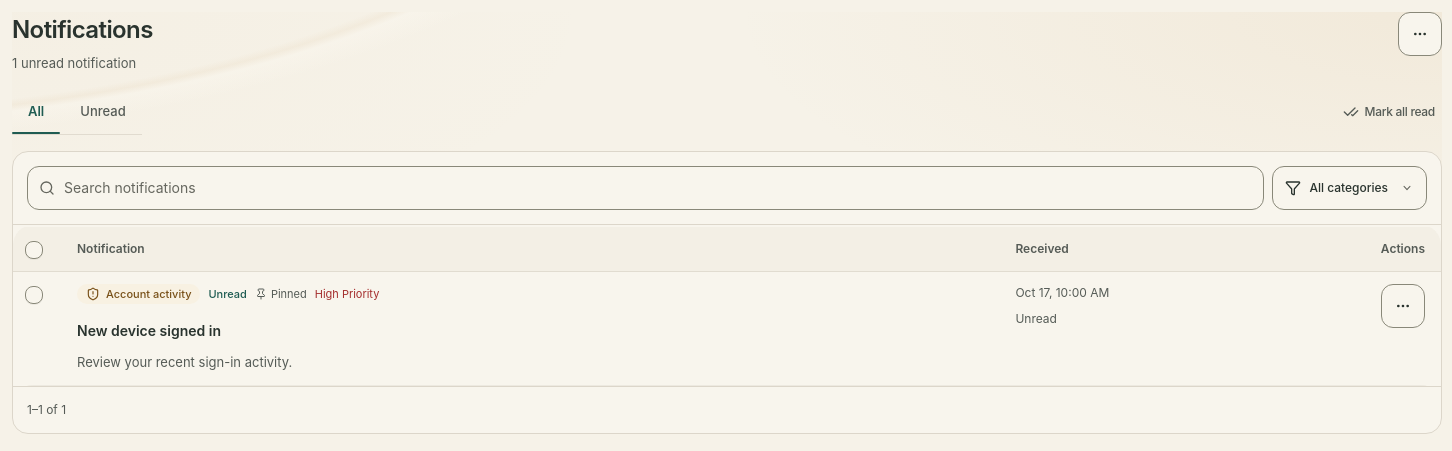
it: hides composer and test delivery from staff without management permission
Click the button named "Inbox options" at (1420,34), box [1398, 12, 1442, 56]
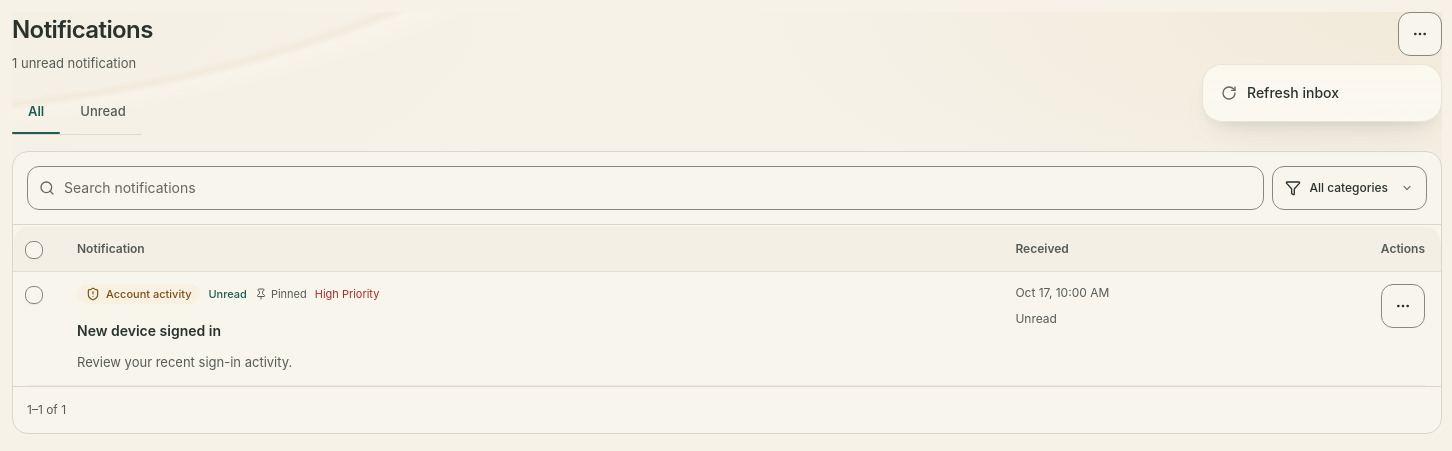
Now the menu item "Refresh inbox" is shown, box [1209, 71, 1435, 115]
